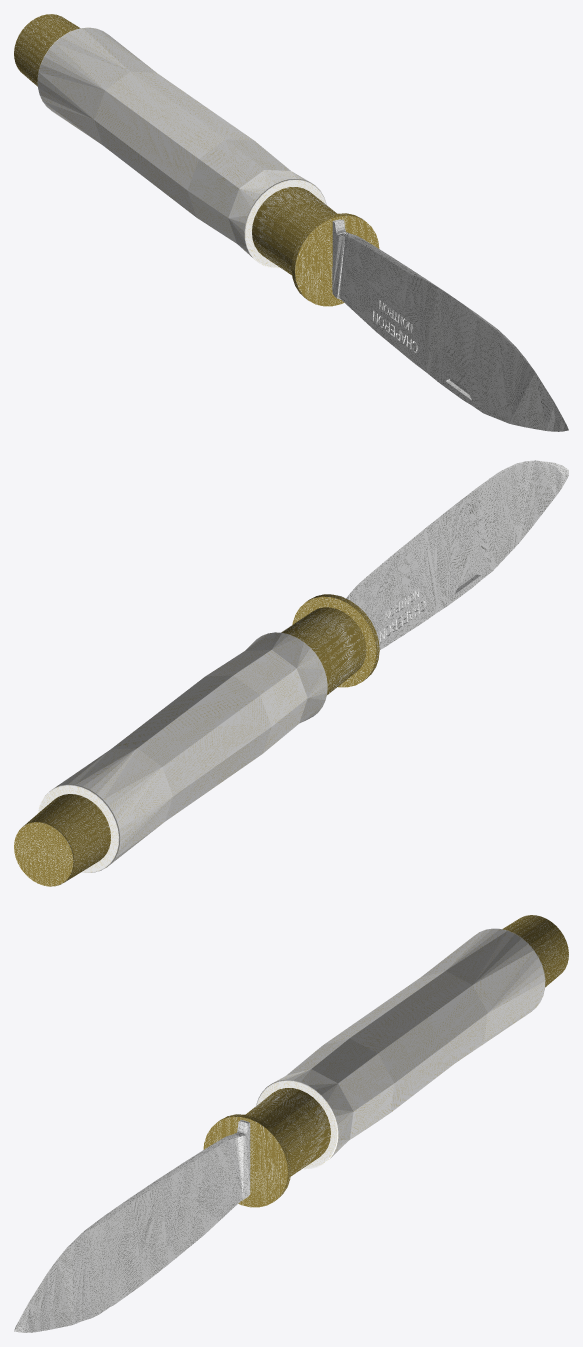
File: model_scale.obj
The picture shows the model from 3 angles, top to bottom: view 1: azimuth 30°, elevation 25°; view 2: azimuth 150°, elevation 25°; view 3: azimuth 330°, elevation 25°; orthographic projection.
Visible parts, largest first — view 1: mesh4_mesh4-geometry, mesh3_mesh3-geometry, mesh1_mesh1-geometry, mesh2_mesh2-geometry; view 2: mesh4_mesh4-geometry, mesh3_mesh3-geometry, mesh2_mesh2-geometry, mesh1_mesh1-geometry; view 3: mesh4_mesh4-geometry, mesh3_mesh3-geometry, mesh1_mesh1-geometry, mesh2_mesh2-geometry.
Part boxes in pixels (<box>): mesh4_mesh4-geometry: <box>37,27,326,268</box>; mesh3_mesh3-geometry: <box>332,219,568,431</box>; mesh1_mesh1-geometry: <box>252,187,379,306</box>; mesh2_mesh2-geometry: <box>14,14,80,86</box>; mesh4_mesh4-geometry: <box>38,632,327,872</box>; mesh3_mesh3-geometry: <box>337,460,568,649</box>; mesh2_mesh2-geometry: <box>14,794,110,886</box>; mesh1_mesh1-geometry: <box>281,594,379,694</box>; mesh4_mesh4-geometry: <box>256,928,545,1169</box>; mesh3_mesh3-geometry: <box>14,1120,250,1332</box>; mesh1_mesh1-geometry: <box>203,1088,330,1207</box>; mesh2_mesh2-geometry: <box>502,915,568,987</box>.
Bounding box in the file's own units: 0.021 × 0.0223 × 0.2258.
